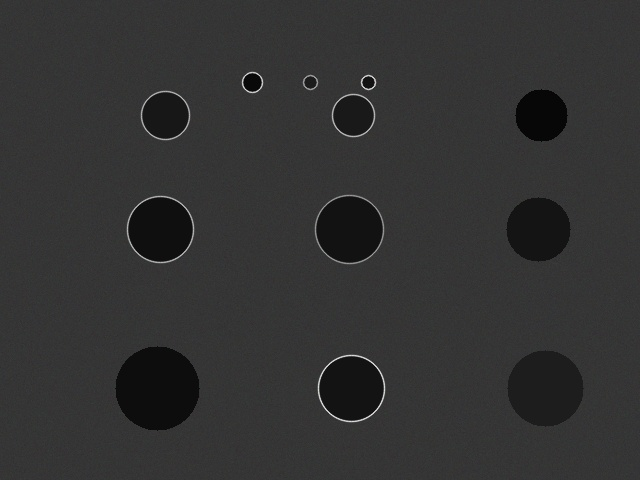hole: (115, 346, 199, 430), (507, 350, 583, 426), (315, 195, 383, 263), (127, 196, 193, 262), (318, 355, 384, 421), (506, 197, 570, 261), (515, 89, 567, 141), (141, 91, 189, 139), (332, 94, 374, 136), (242, 72, 262, 92), (303, 75, 317, 89), (361, 75, 375, 89)
